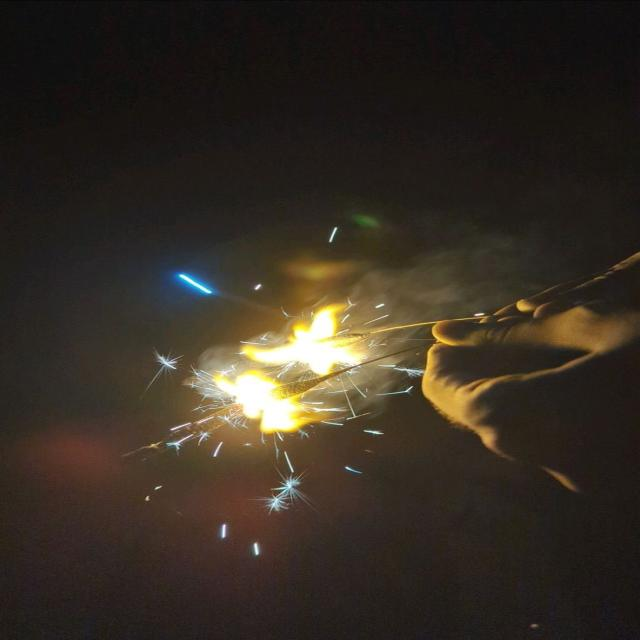fire: (235, 301, 365, 378), (215, 367, 313, 433)
